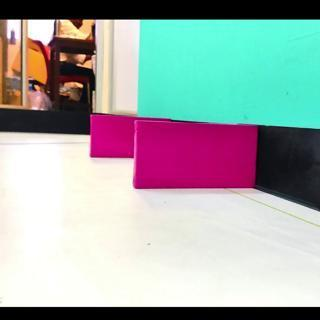xparking: (136, 125, 258, 187), (92, 114, 134, 158)
